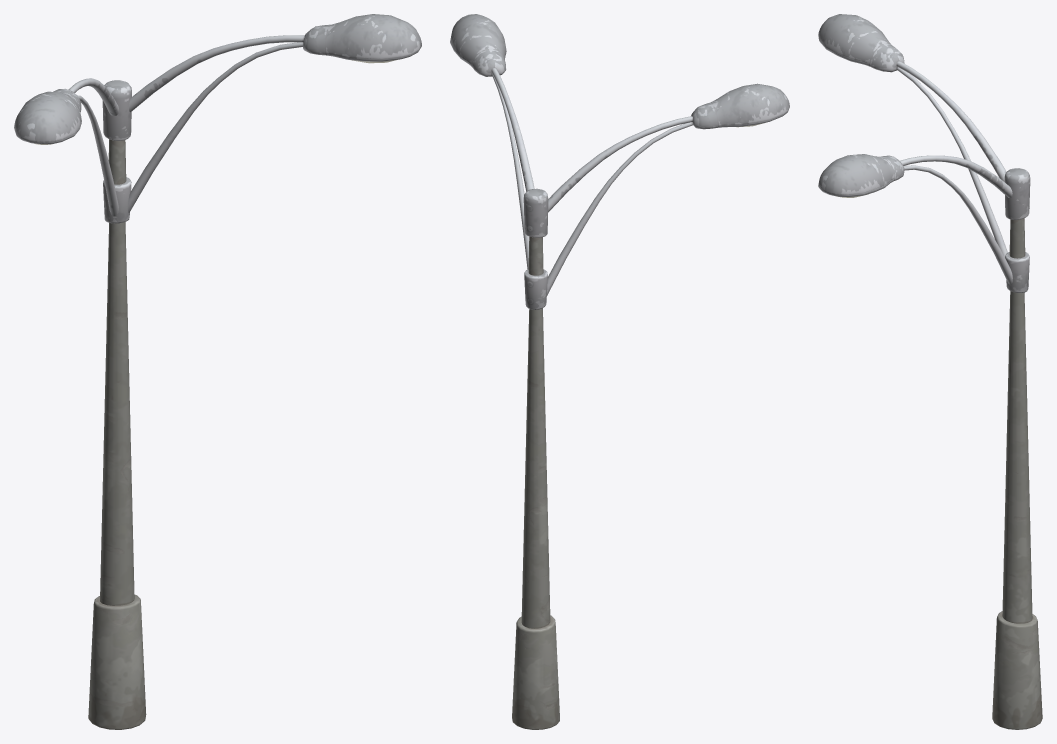
Rendered from StreetLamp03_2.FBX.
The picture shows the model from 3 angles, left to right: view 1: azimuth 30°, elevation 25°; view 2: azimuth 150°, elevation 25°; view 3: azimuth 270°, elevation 25°; orthographic projection. The views are drawn at different scales.
Parts seen in each view (by area): view 1: StreetLamp03_2; view 2: StreetLamp03_2; view 3: StreetLamp03_2.
Boxes of the visible parts, x1,y1,x2,y2 form: StreetLamp03_2: [14, 14, 421, 729]; StreetLamp03_2: [450, 14, 789, 729]; StreetLamp03_2: [818, 14, 1042, 729].
Size of what is drawn, in the model's own units: 2.81 by 4.92 by 1.58.
